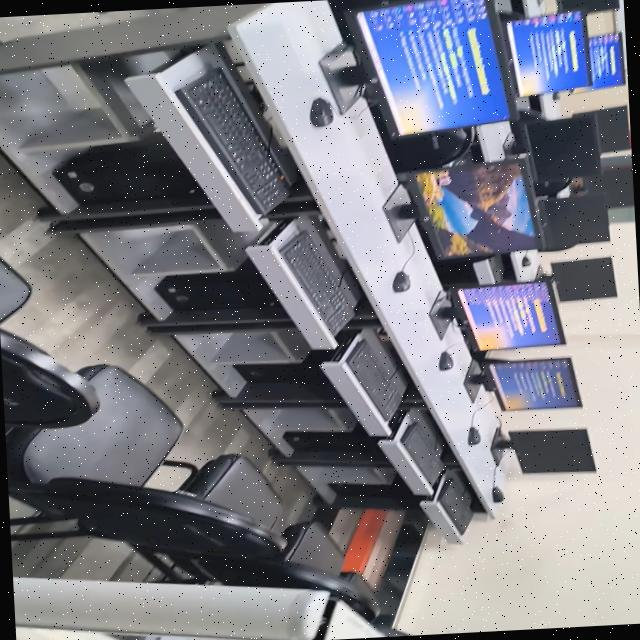Chair: (0, 327, 284, 556), (129, 542, 375, 620), (164, 453, 282, 529), (372, 105, 473, 171), (281, 520, 343, 574), (339, 571, 381, 616)
Cpu: (55, 133, 204, 204), (155, 258, 276, 310), (234, 349, 339, 400), (284, 426, 386, 460), (331, 479, 426, 509)
Keyboard: (175, 64, 291, 214), (280, 230, 345, 333), (347, 338, 401, 420), (399, 420, 442, 485), (437, 475, 473, 534)
Monitor: (345, 0, 514, 135), (414, 155, 544, 258), (457, 280, 565, 349), (506, 11, 590, 96), (489, 357, 582, 410), (528, 115, 602, 179), (498, 427, 595, 472), (540, 193, 610, 251), (551, 256, 617, 301), (573, 104, 631, 152), (581, 32, 624, 91), (585, 166, 634, 208), (559, 0, 619, 12)
Mouse: (310, 97, 334, 126), (393, 270, 411, 292), (440, 350, 454, 370), (468, 426, 481, 444), (492, 486, 505, 502), (523, 254, 532, 266)
